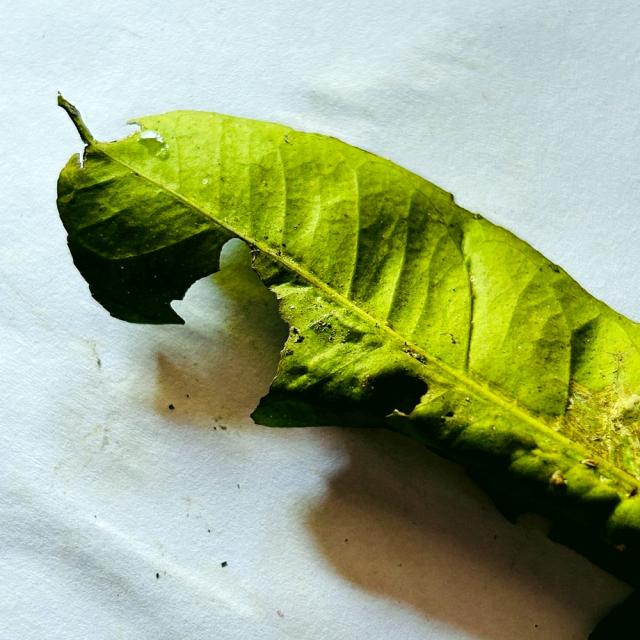Deficiency Leaf: (140, 239, 288, 421)
Lemon: (58, 95, 639, 584)
